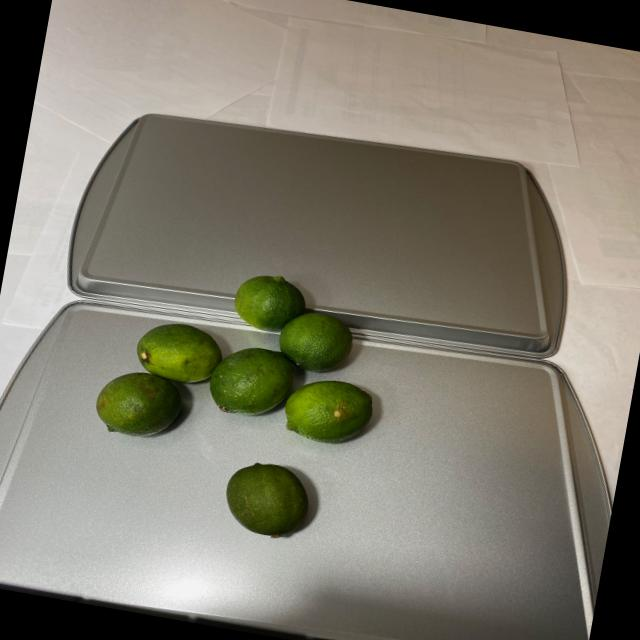lemon: (74, 246, 398, 554)
